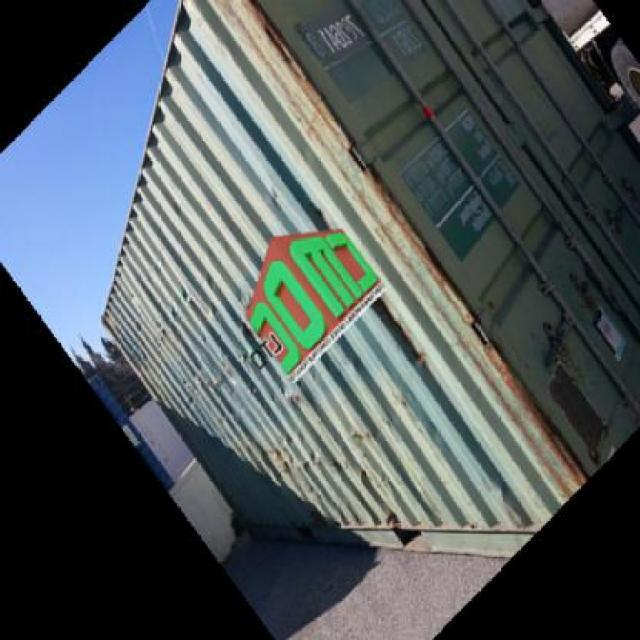Rust: (245, 6, 342, 145), (489, 349, 582, 491), (362, 275, 440, 380), (250, 428, 329, 488)
